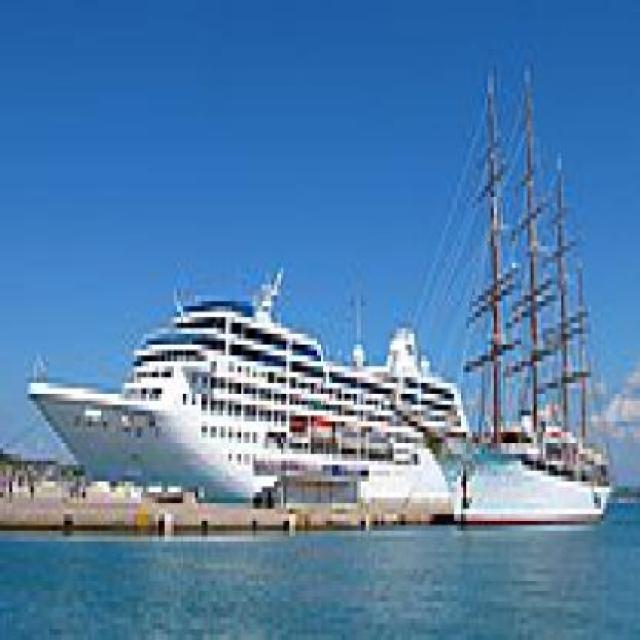cruise: (20, 247, 480, 532)
